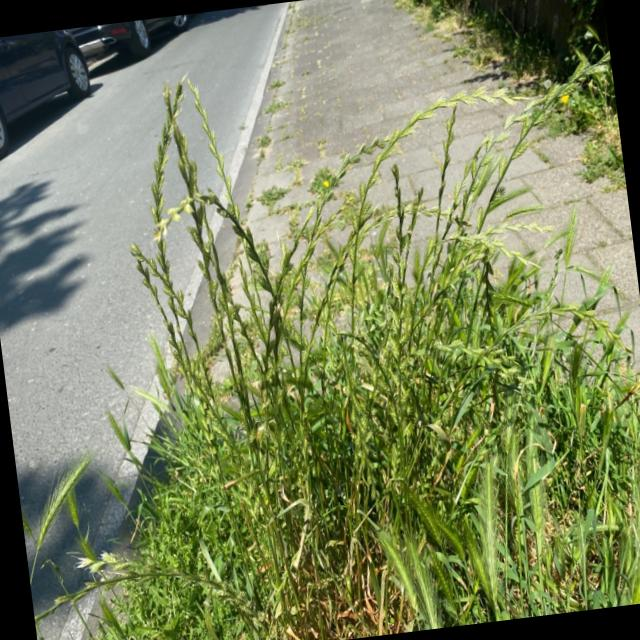Lolium: (105, 18, 640, 640), (233, 123, 450, 382), (348, 74, 579, 208), (134, 78, 222, 408), (188, 77, 268, 361), (408, 212, 562, 324)
